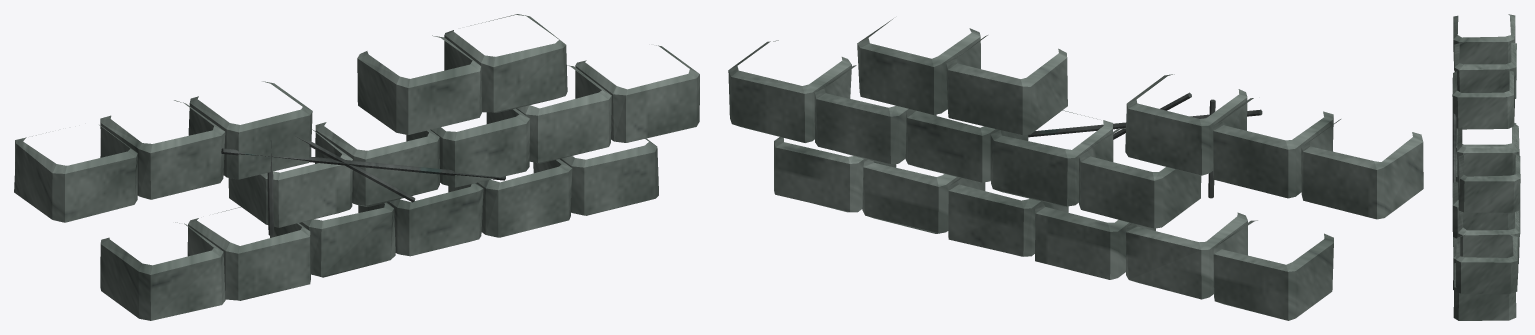
Rendered from 0329_wall_section_04.glb.
3 renders of one model, left to right at view 1: azimuth 30°, elevation 25°; view 2: azimuth 150°, elevation 25°; view 3: azimuth 270°, elevation 25°, orthographic. The views are drawn at different scales.
Parts seen in each view (by area): view 1: stone, iron; view 2: stone, iron; view 3: stone, iron.
Boxes of the visible parts, <box> form: stone: <box>14,14,699,320</box>; iron: <box>221,136,505,235</box>; stone: <box>728,18,1423,320</box>; iron: <box>1028,92,1262,198</box>; stone: <box>1452,14,1520,320</box>; iron: <box>1452,78,1456,231</box>.
Bounding box in the file's own units: 4.25 × 1.12 × 0.5872.
2 materials, 2 textured.
